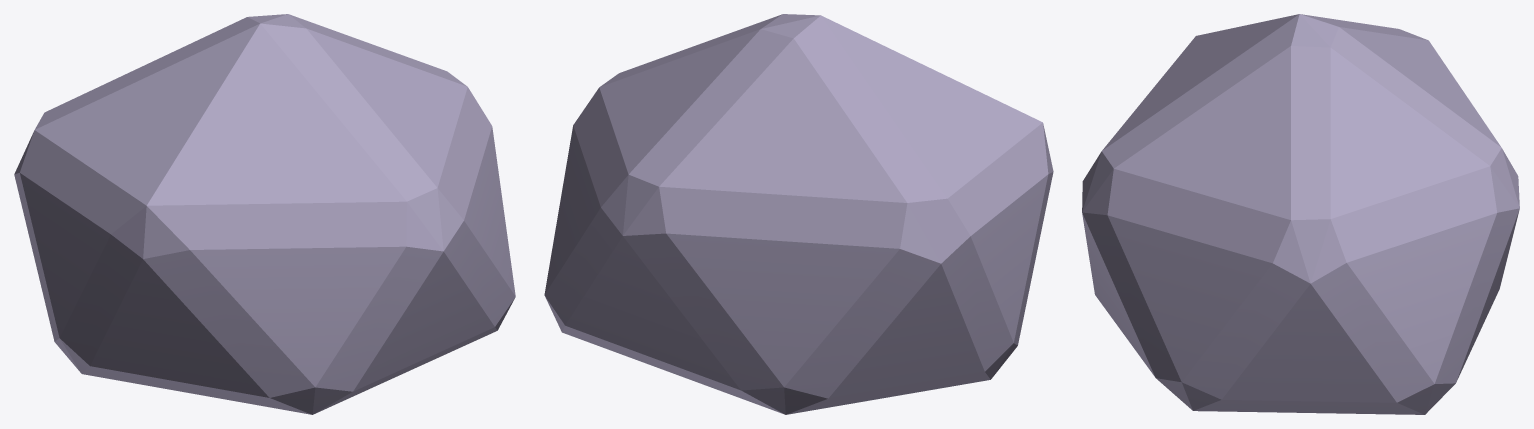
The model's file is rock-small.glb.
3 views of the same model, side by side, from view 1: azimuth 30°, elevation 25°; view 2: azimuth 150°, elevation 25°; view 3: azimuth 270°, elevation 25° (orthographic). The views are drawn at different scales.
Visible parts, largest first — view 1: rock-small; view 2: rock-small; view 3: rock-small.
Boxes of the visible parts, box(x1,y1,x2,y2) form: rock-small: box(14, 14, 515, 414); rock-small: box(544, 14, 1053, 414); rock-small: box(1082, 14, 1519, 414).
Bounding box in the file's own units: 0.4 × 0.28 × 0.36.
